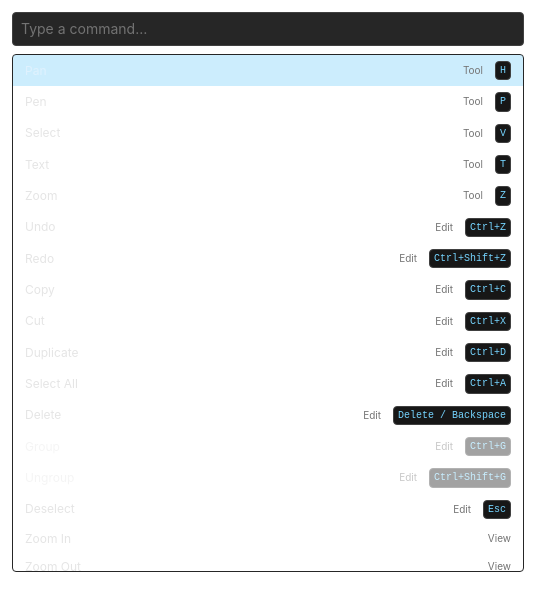
Test: command-palette dialog › shows "No matching commands" for an unmatched query
The image size is (541, 589).
In the dropdown with placeholder "Type a command…": [268, 29] box [12,12,524,46], type "zzzznomatch"
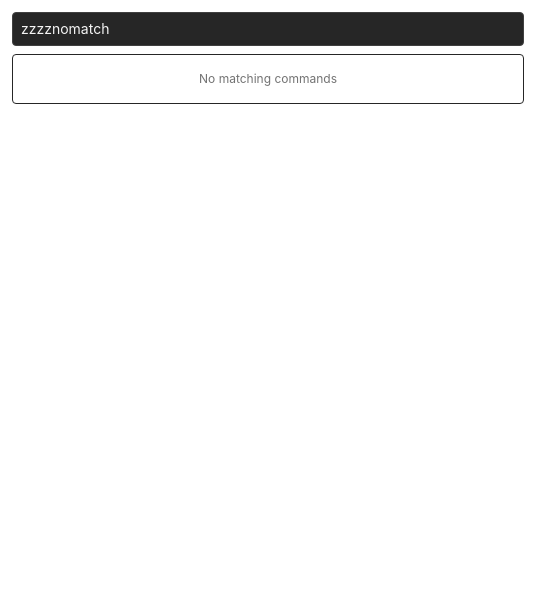
expect the text "No matching commands" is shown: met, box [199,71,337,86]
